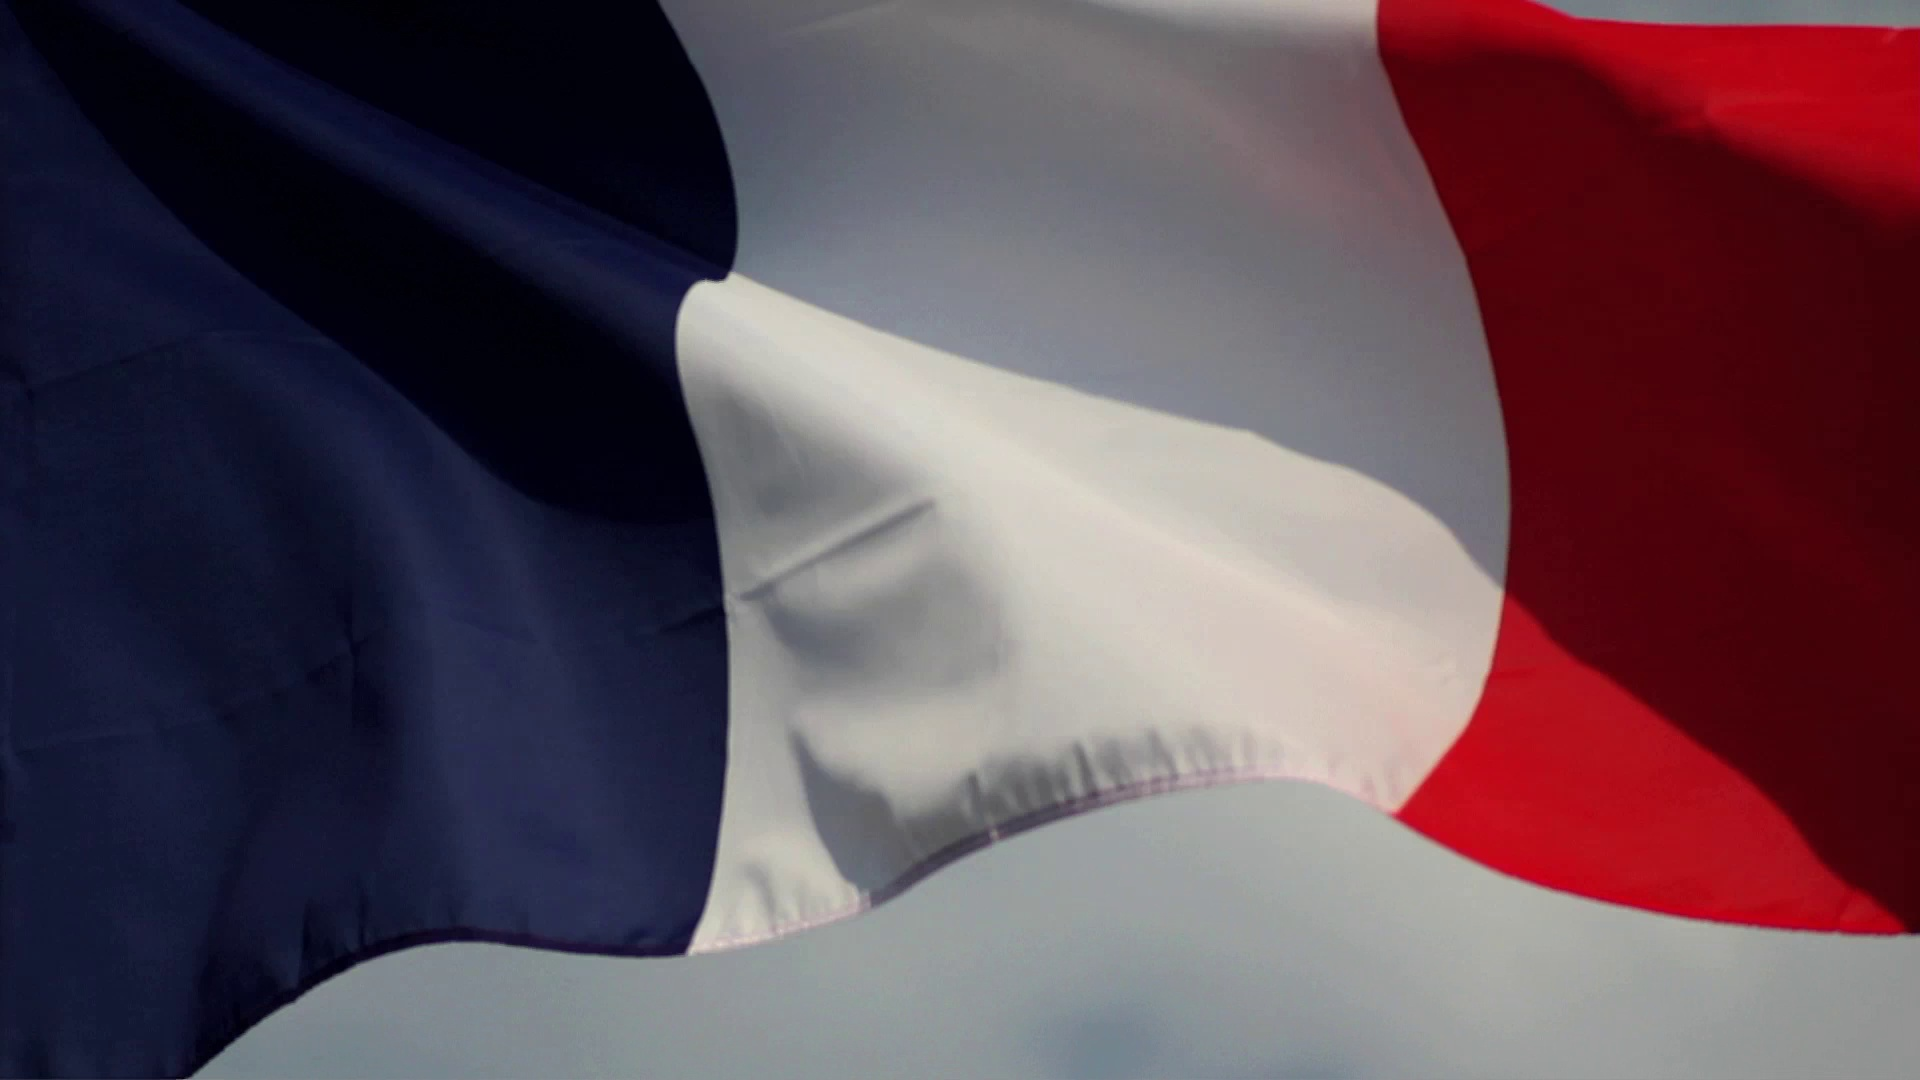French Flag: (1, 1, 1916, 1080)
